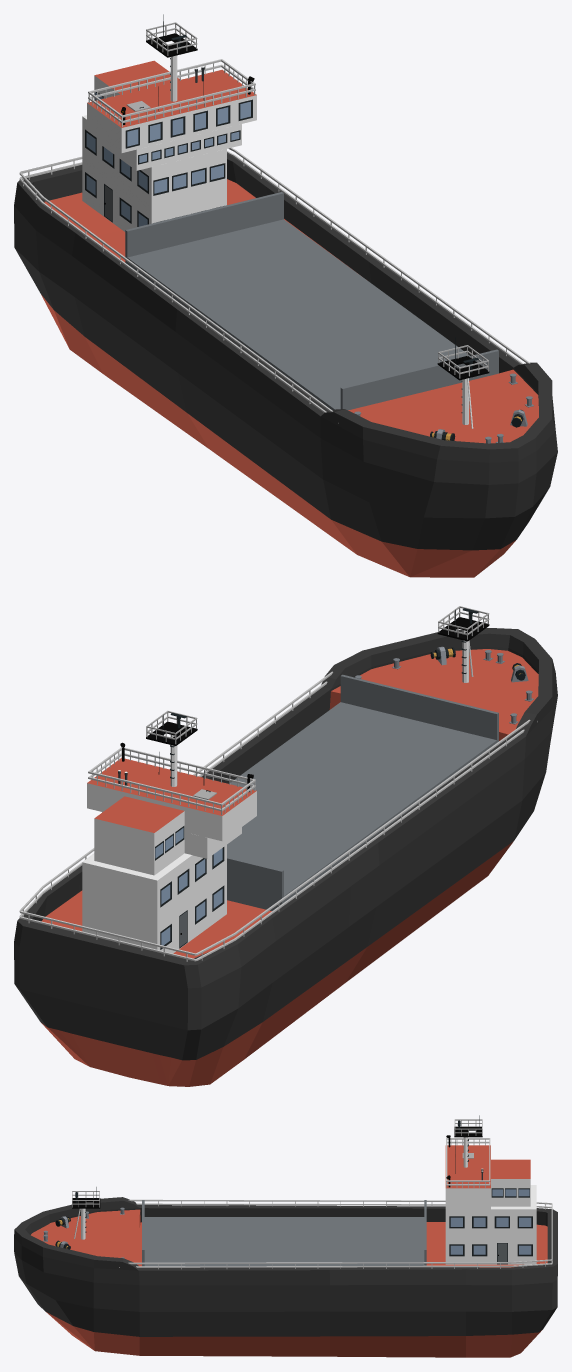
The model's file is Cargo_ship_01.fbx.
3 views of the same model, one above another, from view 1: azimuth 30°, elevation 25°; view 2: azimuth 150°, elevation 25°; view 3: azimuth 270°, elevation 25° (orthographic). The views are drawn at different scales.
Parts seen in each view (by area): view 1: Cargo_ship_01; view 2: Cargo_ship_01; view 3: Cargo_ship_01.
Boxes of the visible parts, x1=… form: Cargo_ship_01: x1=14, y1=14, x2=557, y2=577; Cargo_ship_01: x1=14, y1=606, x2=557, y2=1086; Cargo_ship_01: x1=14, y1=1115, x2=557, y2=1357.
Size of the model in its own units: 1367 by 2145 by 4778.
